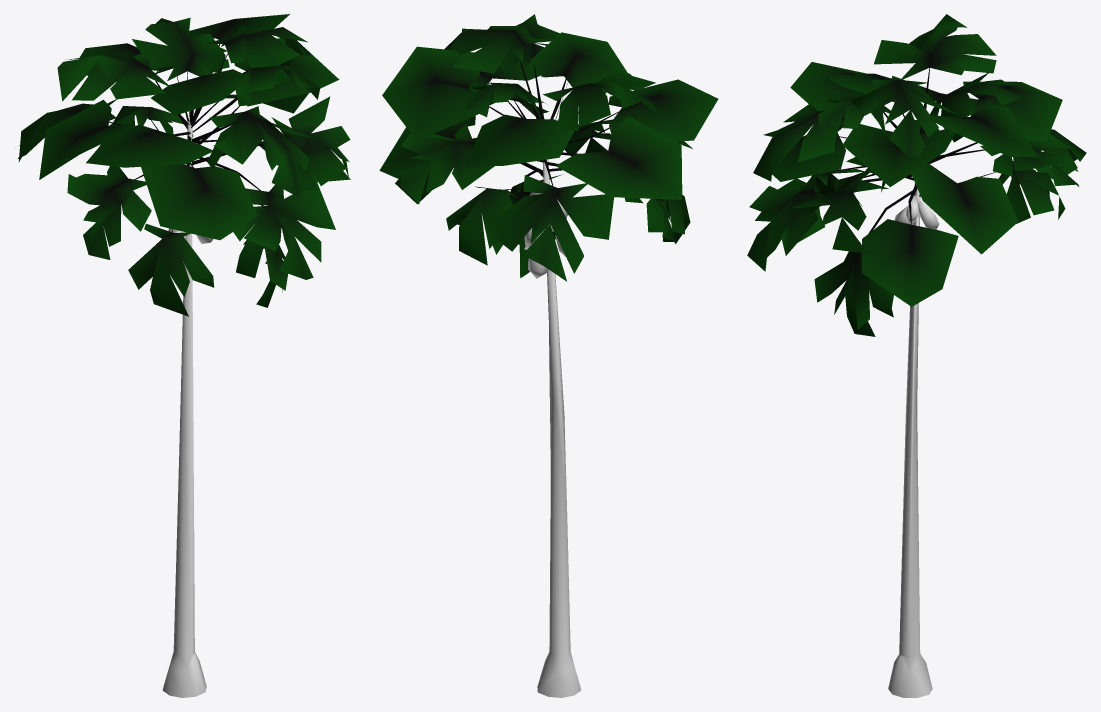
Rendered from PapayaTree001_HDRP_afsTREE_xlprl05_xef80_xlod02.fbx.
3 views of the same model, side by side, from view 1: azimuth 30°, elevation 25°; view 2: azimuth 150°, elevation 25°; view 3: azimuth 270°, elevation 25° (orthographic).
Visible parts, largest first — view 1: trunk_xw05_xt05_xlp00.002, stem.005_xt15_xlp05_xp05.002, stem.012_xt15_xlp05_xp03.002, stem.022_xt15_xlp05_xp05.002, stem.010_xt15_xlp05_xp07.002, stem.029_xt15_xlp05.002, stem.013_xt10_xlp03_xp06.002, stem.023_xt15_xlp05.002, stem.024_xt15_xlp05_xp07.002, stem.032_xt15_xlp05_xp08.002, stem.011_xt15_xlp05_xp09.002, stem.033_xt15_xlp05_xp04.002 (+9 smaller); view 2: trunk_xw05_xt05_xlp00.002, stem.002_xt15_xlp05_xp01.002, stem.011_xt15_xlp05_xp09.002, stem.027_xt15_xlp05_xp10.002, stem.026_xt15_xlp05_xp02.002, stem.023_xt15_xlp05.002, stem.015_xt15_xlp05.002, stem.031_xt15_xlp05_xp01.002, stem.029_xt15_xlp05.002, stem.033_xt15_xlp05_xp04.002, stem.004_xt15_xlp05.002, stem.032_xt15_xlp05_xp08.002 (+6 smaller); view 3: trunk_xw05_xt05_xlp00.002, stem.003_xt15_xlp05_xp10.002, stem.021_xt15_xlp05_xp08.002, stem.029_xt15_xlp05.002, stem.012_xt15_xlp05_xp03.002, stem.033_xt15_xlp05_xp04.002, stem.014_xt10_xlp05.002, stem.025_xt15_xlp05_xp10.002, stem.027_xt15_xlp05_xp10.002, stem.022_xt15_xlp05_xp05.002, stem.024_xt15_xlp05_xp07.002, stem.026_xt15_xlp05_xp02.002 (+9 smaller).
Part boxes in pixels (bbox=[...]): trunk_xw05_xt05_xlp00.002: bbox=[162, 121, 206, 697]; stem.005_xt15_xlp05_xp05.002: bbox=[141, 135, 257, 240]; stem.012_xt15_xlp05_xp03.002: bbox=[199, 157, 335, 279]; stem.022_xt15_xlp05_xp05.002: bbox=[191, 106, 316, 197]; stem.010_xt15_xlp05_xp07.002: bbox=[67, 166, 151, 259]; stem.029_xt15_xlp05.002: bbox=[57, 51, 189, 124]; stem.013_xt10_xlp03_xp06.002: bbox=[128, 163, 214, 316]; stem.023_xt15_xlp05.002: bbox=[86, 125, 212, 167]; stem.024_xt15_xlp05_xp07.002: bbox=[192, 96, 350, 191]; stem.032_xt15_xlp05_xp08.002: bbox=[132, 17, 225, 121]; stem.011_xt15_xlp05_xp09.002: bbox=[39, 99, 135, 179]; stem.033_xt15_xlp05_xp04.002: bbox=[192, 25, 311, 123]; trunk_xw05_xt05_xlp00.002: bbox=[537, 159, 581, 697]; stem.002_xt15_xlp05_xp01.002: bbox=[494, 159, 613, 281]; stem.011_xt15_xlp05_xp09.002: bbox=[556, 116, 682, 199]; stem.027_xt15_xlp05_xp10.002: bbox=[382, 46, 503, 140]; stem.026_xt15_xlp05_xp02.002: bbox=[465, 114, 574, 166]; stem.023_xt15_xlp05.002: bbox=[573, 79, 718, 141]; stem.015_xt15_xlp05.002: bbox=[400, 124, 494, 204]; stem.031_xt15_xlp05_xp01.002: bbox=[530, 32, 628, 119]; stem.029_xt15_xlp05.002: bbox=[543, 71, 662, 131]; stem.033_xt15_xlp05_xp04.002: bbox=[444, 26, 551, 118]; stem.004_xt15_xlp05.002: bbox=[446, 186, 523, 265]; stem.032_xt15_xlp05_xp08.002: bbox=[466, 82, 547, 118]; trunk_xw05_xt05_xlp00.002: bbox=[888, 183, 932, 697]; stem.003_xt15_xlp05_xp10.002: bbox=[861, 184, 958, 306]; stem.021_xt15_xlp05_xp08.002: bbox=[911, 163, 1018, 254]; stem.029_xt15_xlp05.002: bbox=[874, 14, 996, 133]; stem.012_xt15_xlp05_xp03.002: bbox=[747, 169, 912, 271]; stem.033_xt15_xlp05_xp04.002: bbox=[851, 80, 958, 156]; stem.014_xt10_xlp05.002: bbox=[814, 190, 916, 336]; stem.025_xt15_xlp05_xp10.002: bbox=[842, 124, 955, 186]; stem.027_xt15_xlp05_xp10.002: bbox=[929, 104, 1037, 156]; stem.022_xt15_xlp05_xp05.002: bbox=[753, 103, 852, 181]; stem.024_xt15_xlp05_xp07.002: bbox=[792, 169, 888, 253]; stem.026_xt15_xlp05_xp02.002: bbox=[963, 81, 1062, 141].
Size of what is drawn, in the model's own units: 2.38 by 4.89 by 2.37.
